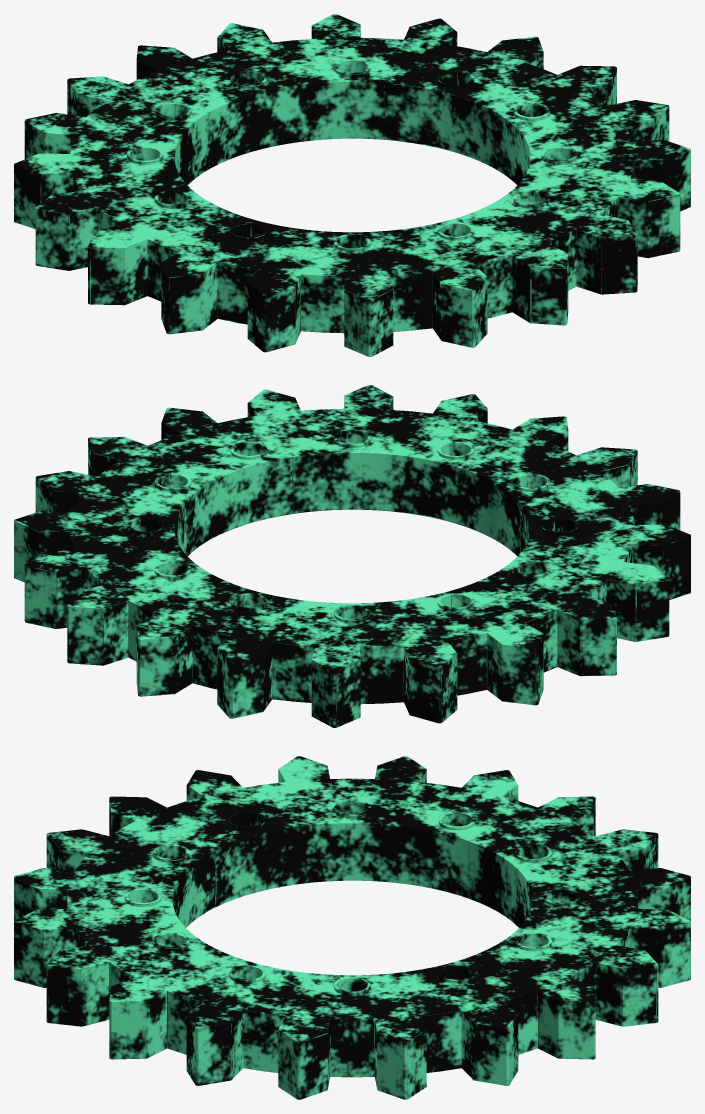
File: factory interiorv1.fbx
3 renders of one model, top to bottom at view 1: azimuth 30°, elevation 25°; view 2: azimuth 150°, elevation 25°; view 3: azimuth 270°, elevation 25°, orthographic.
Visible parts, largest first — view 1: Cylinder.003; view 2: Cylinder.003; view 3: Cylinder.003.
Boxes of the visible parts, box(x1,y1,x2,y2) form: Cylinder.003: box(14, 14, 690, 356); Cylinder.003: box(14, 385, 690, 727); Cylinder.003: box(14, 756, 690, 1099).
Bounding box in the file's own units: 67.46 × 6.63 × 67.46.
Materials: 1 (1 with a texture image).
